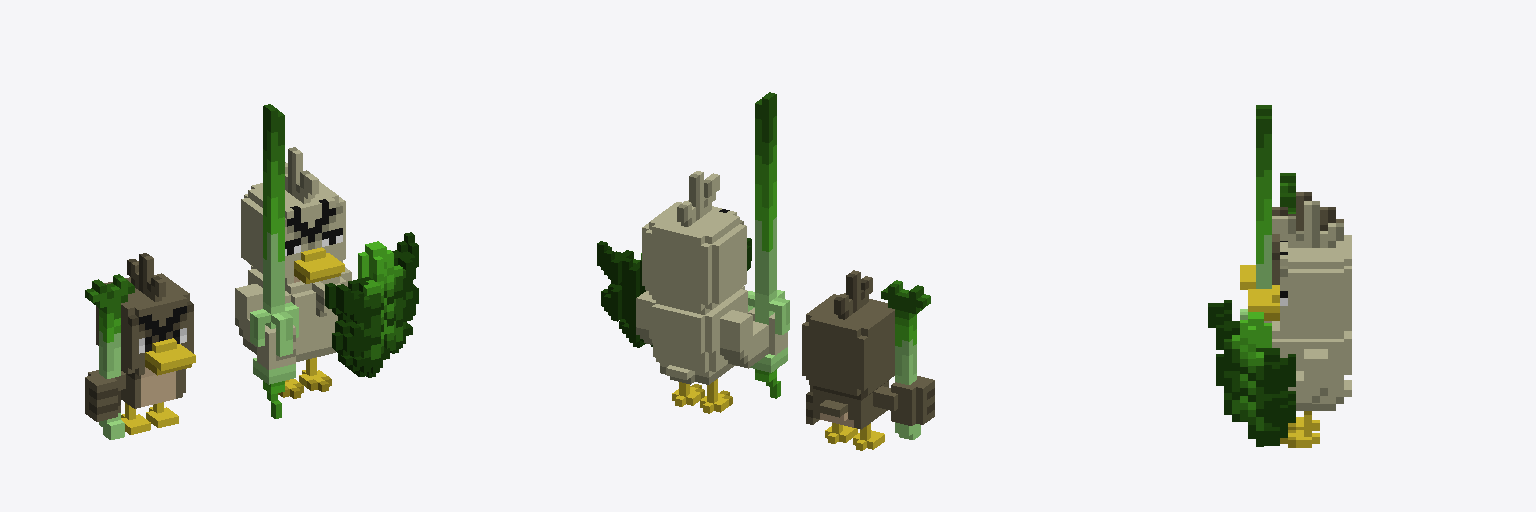
3 views of the same model, side by side, from view 1: azimuth 30°, elevation 25°; view 2: azimuth 150°, elevation 25°; view 3: azimuth 270°, elevation 25° (orthographic).
Visible parts, largest first — view 1: object 1; view 2: object 1; view 3: object 1.
Boxes of the visible parts, box(x1,y1,x2,y2) form: object 1: box(85, 104, 418, 439); object 1: box(597, 92, 934, 450); object 1: box(1208, 105, 1351, 447).
Size of the model in its own units: 4.7 by 4.2 by 1.8.
Materials: 1 (1 with a texture image).